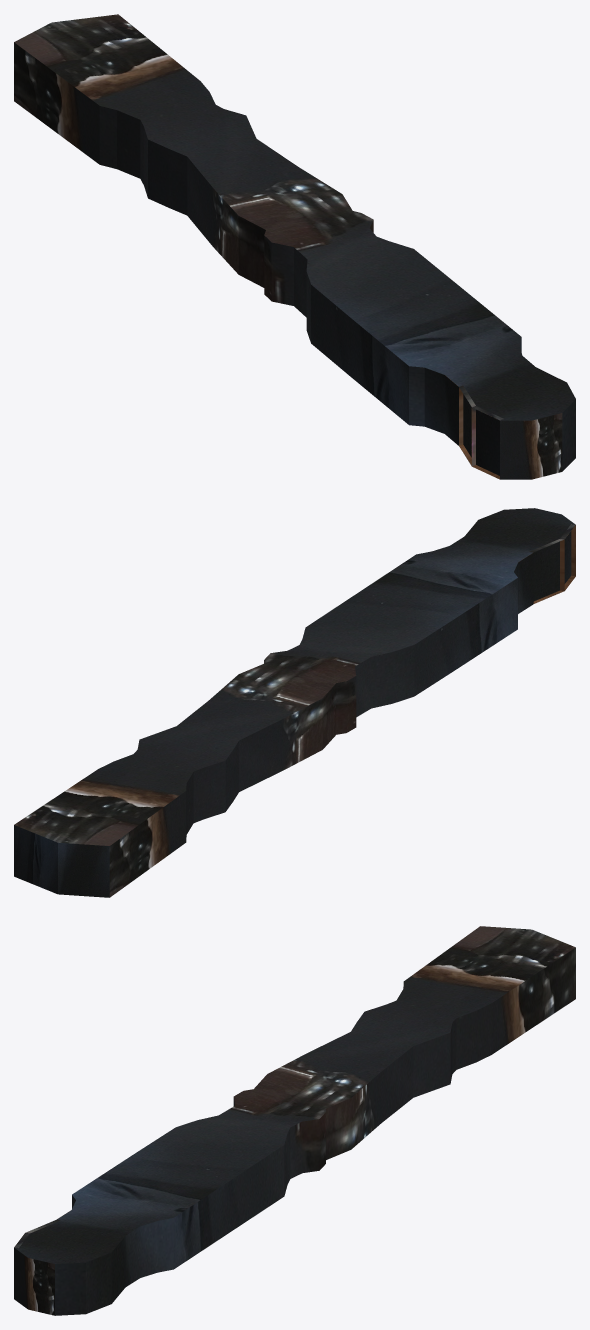
File: bar-stool-leg.fbx
3 views of the same model, one above another, from view 1: azimuth 30°, elevation 25°; view 2: azimuth 150°, elevation 25°; view 3: azimuth 330°, elevation 25° (orthographic). The views are drawn at different scales.
Parts seen in each view (by area): view 1: bar_stool_leg; view 2: bar_stool_leg; view 3: bar_stool_leg.
Boxes of the visible parts, bbox=[...] form: bar_stool_leg: bbox=[14, 14, 575, 479]; bar_stool_leg: bbox=[14, 508, 575, 897]; bar_stool_leg: bbox=[14, 926, 575, 1315].
Bounding box in the file's own units: 11.05 × 4.38 × 70.97.
